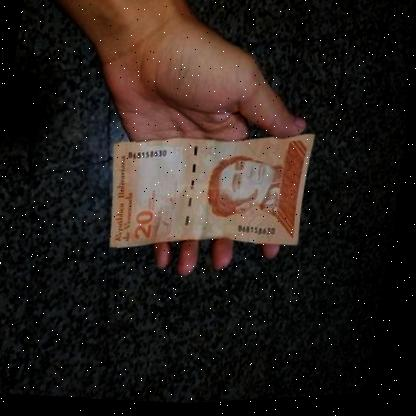twenty-front-vef: (96, 115, 320, 269)
